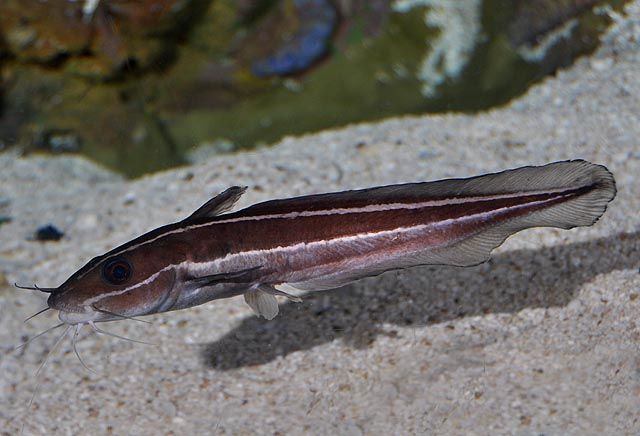fish: (46, 159, 618, 328)
